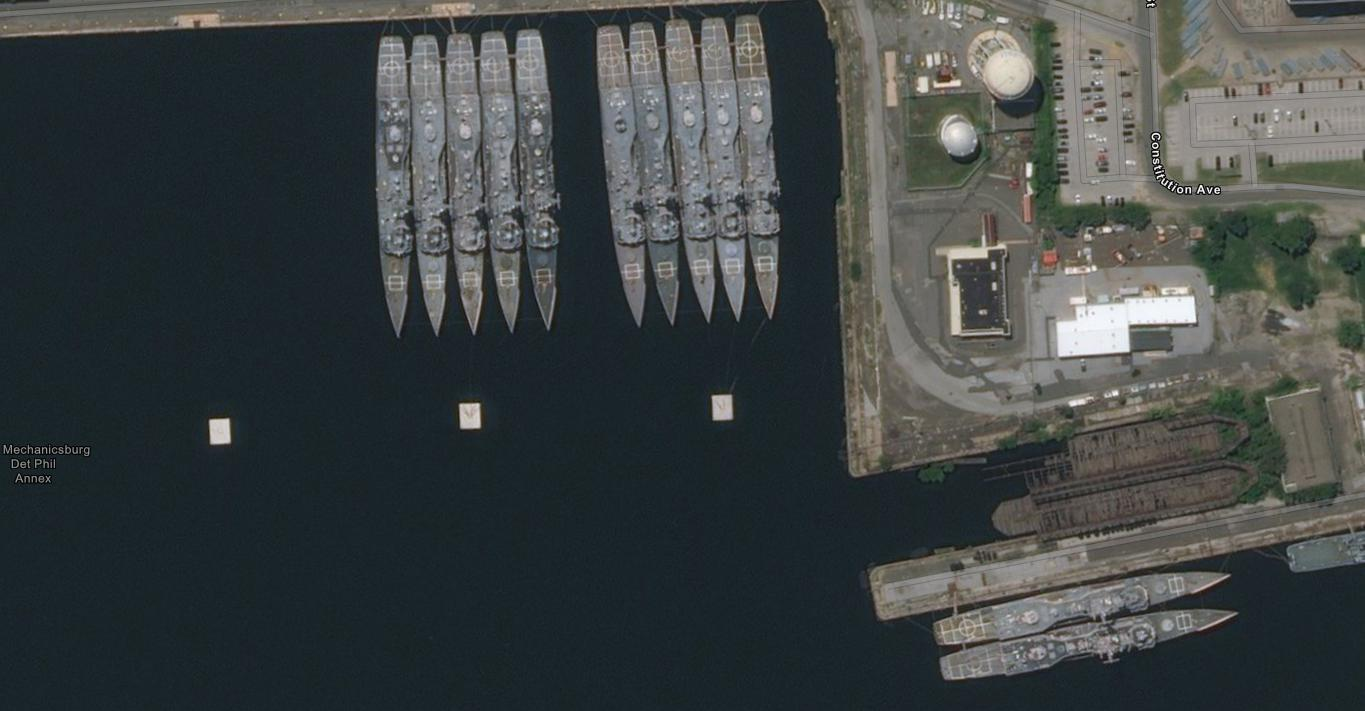cruiser: (350, 21, 419, 349), (618, 6, 684, 331), (585, 18, 650, 336), (727, 9, 790, 324), (433, 27, 496, 337), (469, 25, 525, 334), (513, 26, 565, 330), (401, 27, 449, 342)
